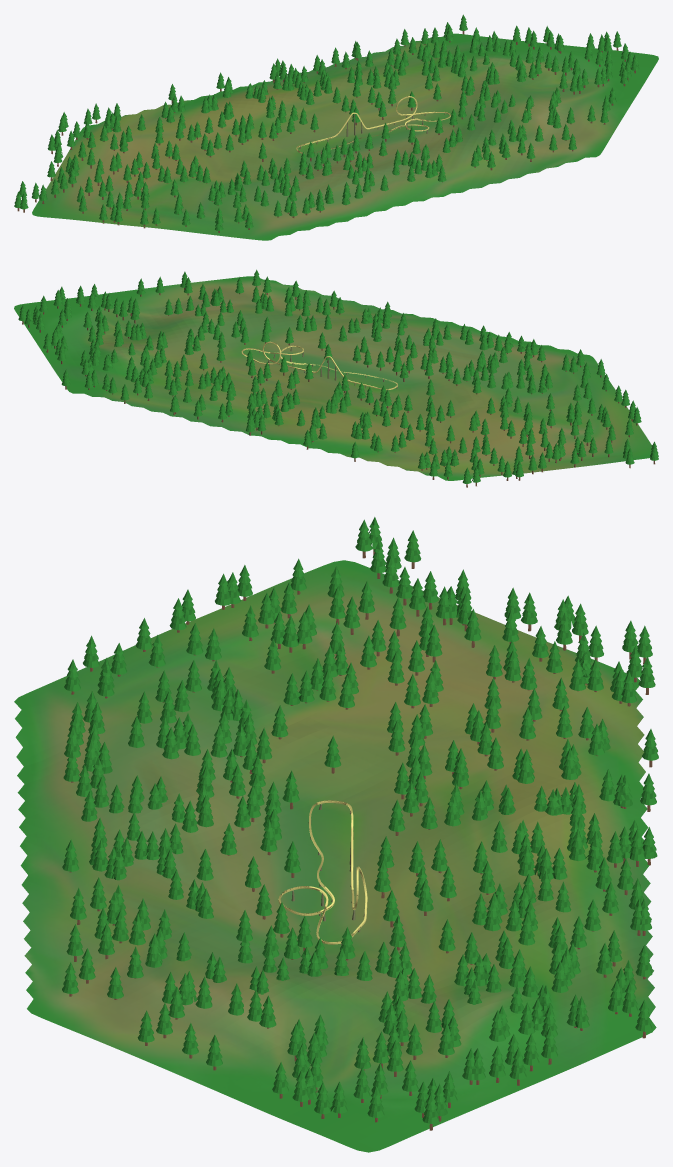
Rendered from RollerFlorest.fbx.
3 views of the same model, one above another, from view 1: azimuth 30°, elevation 25°; view 2: azimuth 150°, elevation 25°; view 3: azimuth 270°, elevation 25° (orthographic). The views are drawn at different scales.
Parts seen in each view (by area): view 1: chao, arvores, motanha; view 2: chao, arvores, motanha; view 3: chao, arvores, motanha.
Boxes of the visible parts, x1,y1,x2,y2 form: chao: [32, 33, 658, 240]; arvores: [14, 14, 639, 232]; motanha: [296, 96, 450, 153]; chao: [14, 276, 651, 480]; arvores: [18, 269, 658, 487]; motanha: [241, 341, 397, 390]; chao: [14, 560, 656, 1152]; arvores: [62, 517, 658, 1130]; motanha: [278, 800, 367, 944].
Size of the model in its own units: 42452 by 1656 by 19237.
